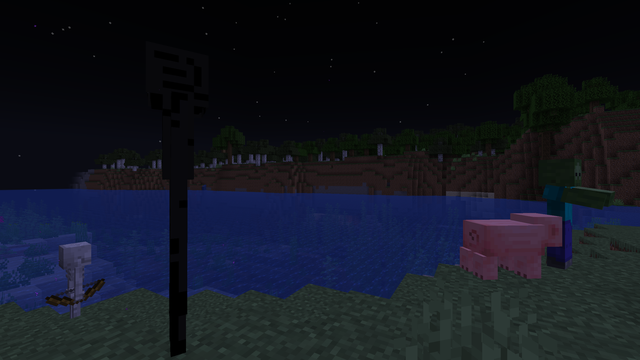cochons: (471, 216, 540, 286)
endermens: (127, 26, 222, 357)
squelettes: (54, 241, 95, 313)
zombies: (535, 161, 587, 273)
